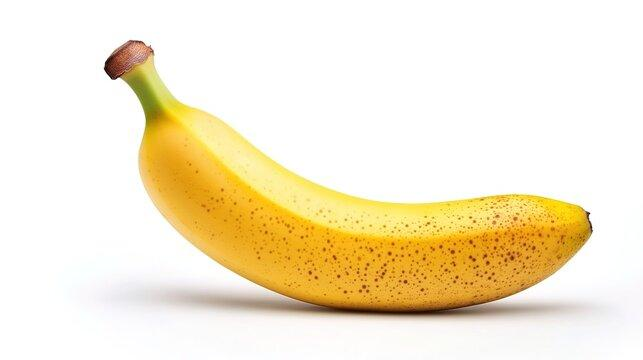non-mango: (103, 38, 593, 313)
